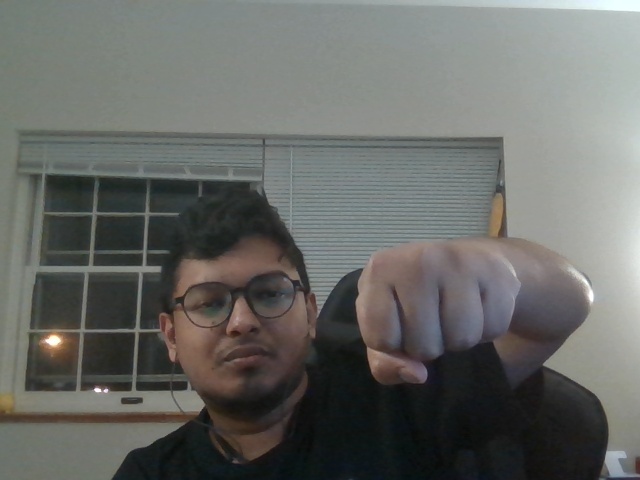yes: (316, 206, 617, 399)
